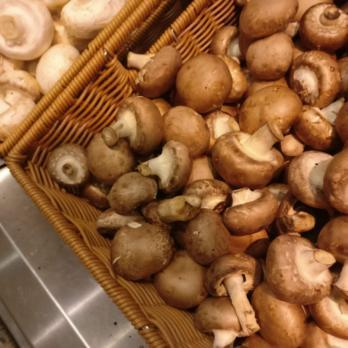Mushroom: (235, 3, 348, 348), (129, 49, 237, 323), (52, 122, 136, 203), (27, 0, 98, 79), (0, 4, 27, 117)
